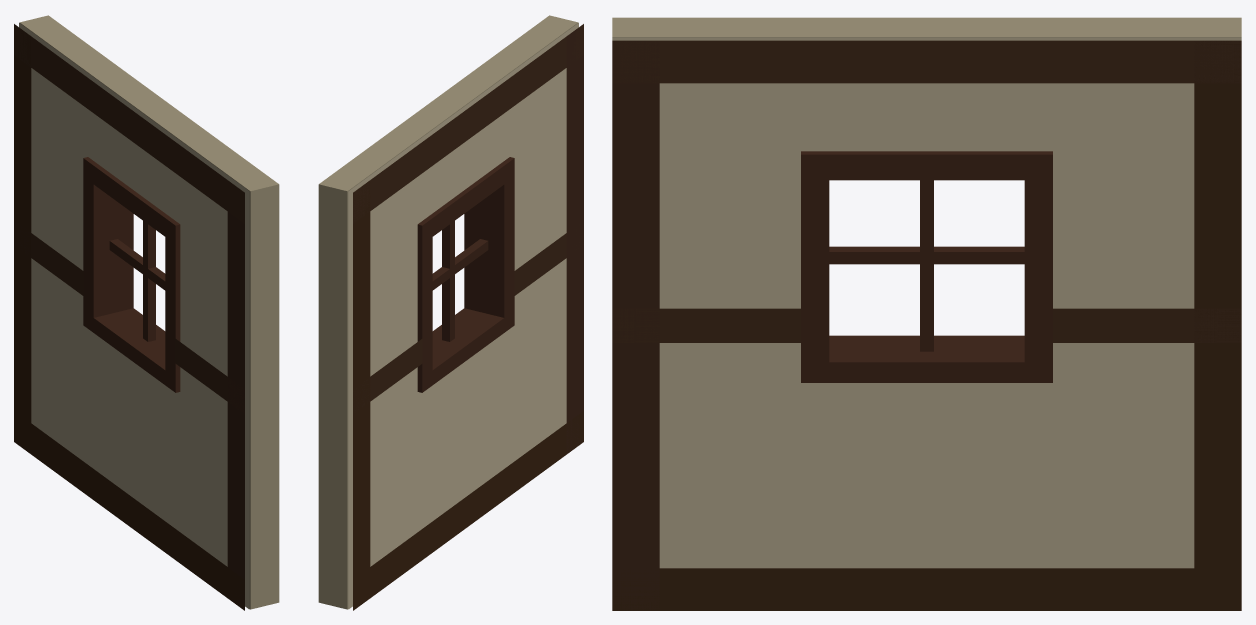
File: wall-halftimber-window.glb
The picture shows the model from 3 angles, left to right: view 1: azimuth 30°, elevation 25°; view 2: azimuth 150°, elevation 25°; view 3: azimuth 270°, elevation 25°; orthographic projection. The views are drawn at different scales.
Parts seen in each view (by area): view 1: wall-halftimber-window; view 2: wall-halftimber-window; view 3: wall-halftimber-window.
Part boxes in pixels (x1,y1,x2,y2): wall-halftimber-window: (14, 15, 279, 610); wall-halftimber-window: (318, 15, 583, 610); wall-halftimber-window: (612, 17, 1241, 610).
Bounding box in the file's own units: 0.1 × 1 × 1.
